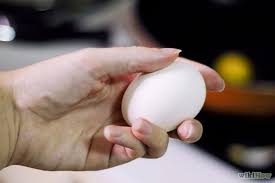egg: (122, 62, 207, 131)
